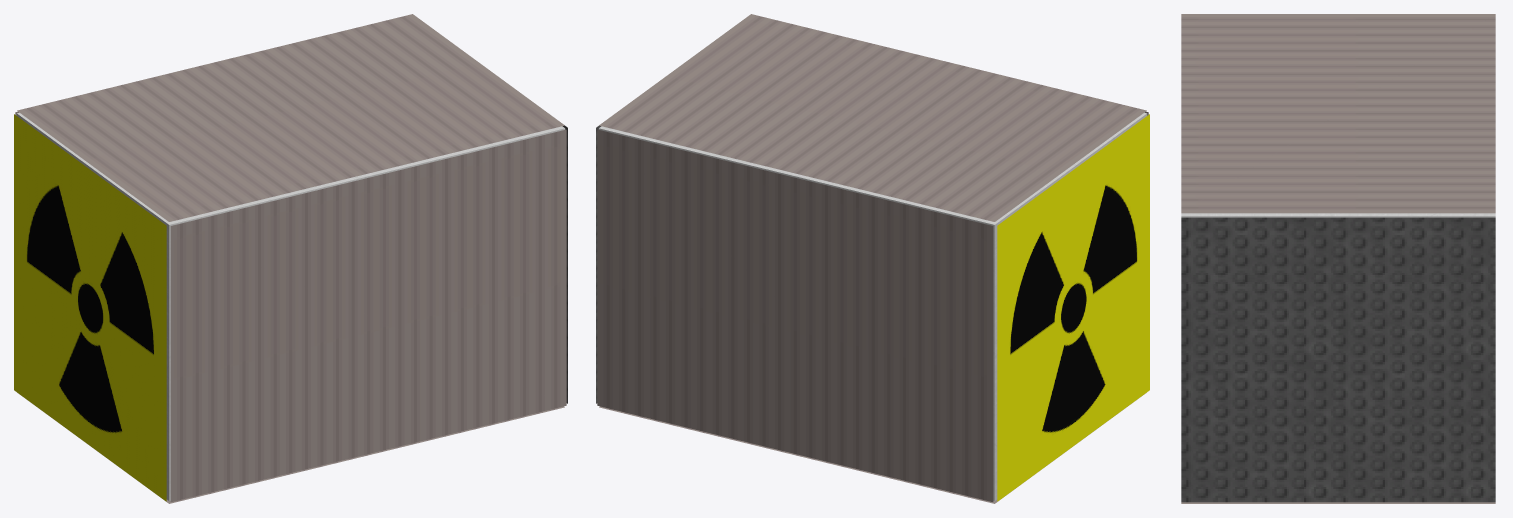
File: geigercounter.obj
3 renders of one model, left to right at view 1: azimuth 30°, elevation 25°; view 2: azimuth 150°, elevation 25°; view 3: azimuth 270°, elevation 25°, orthographic. The views are drawn at different scales.
Visible parts, largest first — view 1: Geigercounter6, Geigercounter3, Geigercounter2, Geigercounter1, Geigercounter5; view 2: Geigercounter4, Geigercounter3, Geigercounter2, Geigercounter1, Geigercounter5; view 3: Geigercounter7, Geigercounter3, Geigercounter1, Geigercounter5.
Boxes of the visible parts, x1,y1,x2,y2 form: Geigercounter6: (170, 129, 566, 501); Geigercounter3: (17, 14, 564, 221); Geigercounter2: (14, 114, 166, 501); Geigercounter1: (16, 112, 565, 500); Geigercounter5: (18, 393, 564, 503); Geigercounter4: (597, 129, 993, 501); Geigercounter3: (599, 14, 1146, 221); Geigercounter2: (997, 114, 1149, 501); Geigercounter1: (598, 112, 1147, 500); Geigercounter5: (599, 393, 1145, 503); Geigercounter7: (1181, 217, 1495, 502); Geigercounter3: (1181, 14, 1495, 213); Geigercounter1: (1181, 213, 1495, 217); Geigercounter5: (1181, 502, 1495, 503).
Bounding box in the file's own units: 3.04 × 2.04 × 2.04.
4 materials, 4 textured.
